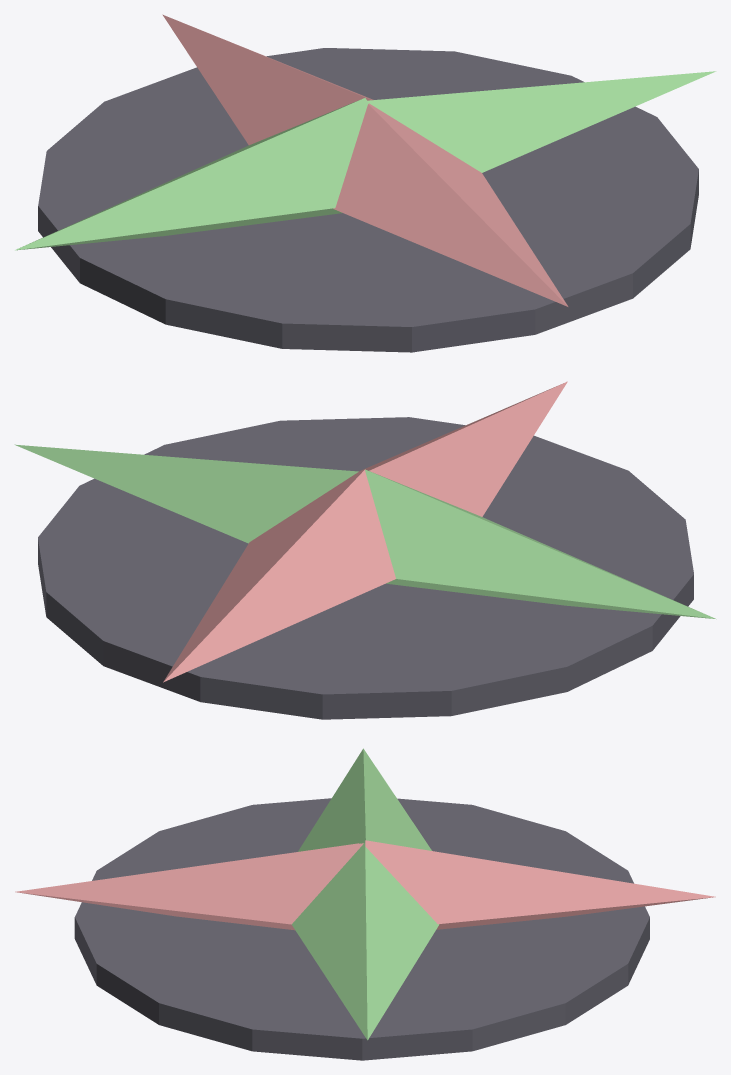
Rendered from compass.dae.
The picture shows the model from 3 angles, top to bottom: view 1: azimuth 30°, elevation 25°; view 2: azimuth 150°, elevation 25°; view 3: azimuth 270°, elevation 25°; orthographic projection. The views are drawn at different scales.
Parts seen in each view (by area): view 1: Cylinder, Cone_003, Cone, Cone_002, Cone_001; view 2: Cylinder, Cone_001, Cone_003, Cone_002, Cone; view 3: Cylinder, Cone_002, Cone_001, Cone, Cone_003.
Part boxes in pixels (x1,y1,x2,y2): Cylinder: (38, 48, 698, 352); Cone_003: (15, 97, 368, 250); Cone: (333, 103, 568, 306); Cone_002: (367, 71, 716, 172); Cone_001: (162, 14, 373, 145); Cylinder: (38, 417, 693, 719); Cone_001: (163, 469, 395, 682); Cone_003: (365, 469, 716, 619); Cone_002: (14, 444, 358, 543); Cone: (359, 381, 567, 516); Cylinder: (74, 798, 649, 1060); Cone_002: (291, 843, 439, 1040); Cone_001: (365, 840, 715, 929); Cone: (15, 843, 363, 930); Cone_003: (298, 748, 431, 851).
Size of the model in its own units: 0.8611 by 0.8612 by 0.1423.
